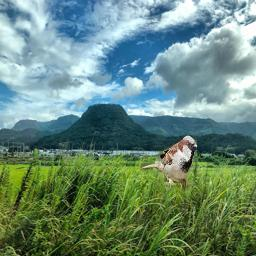Sparrow: (141, 135, 198, 191)
